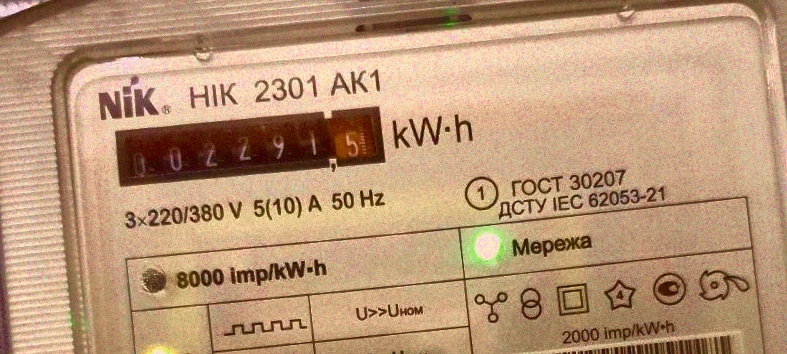0: (128, 146, 149, 177), (165, 142, 185, 173)
1: (303, 124, 321, 160)
2: (200, 138, 219, 168), (234, 132, 252, 162)
5: (342, 127, 361, 158)
9: (268, 129, 288, 161)
screen: (108, 92, 392, 201)
